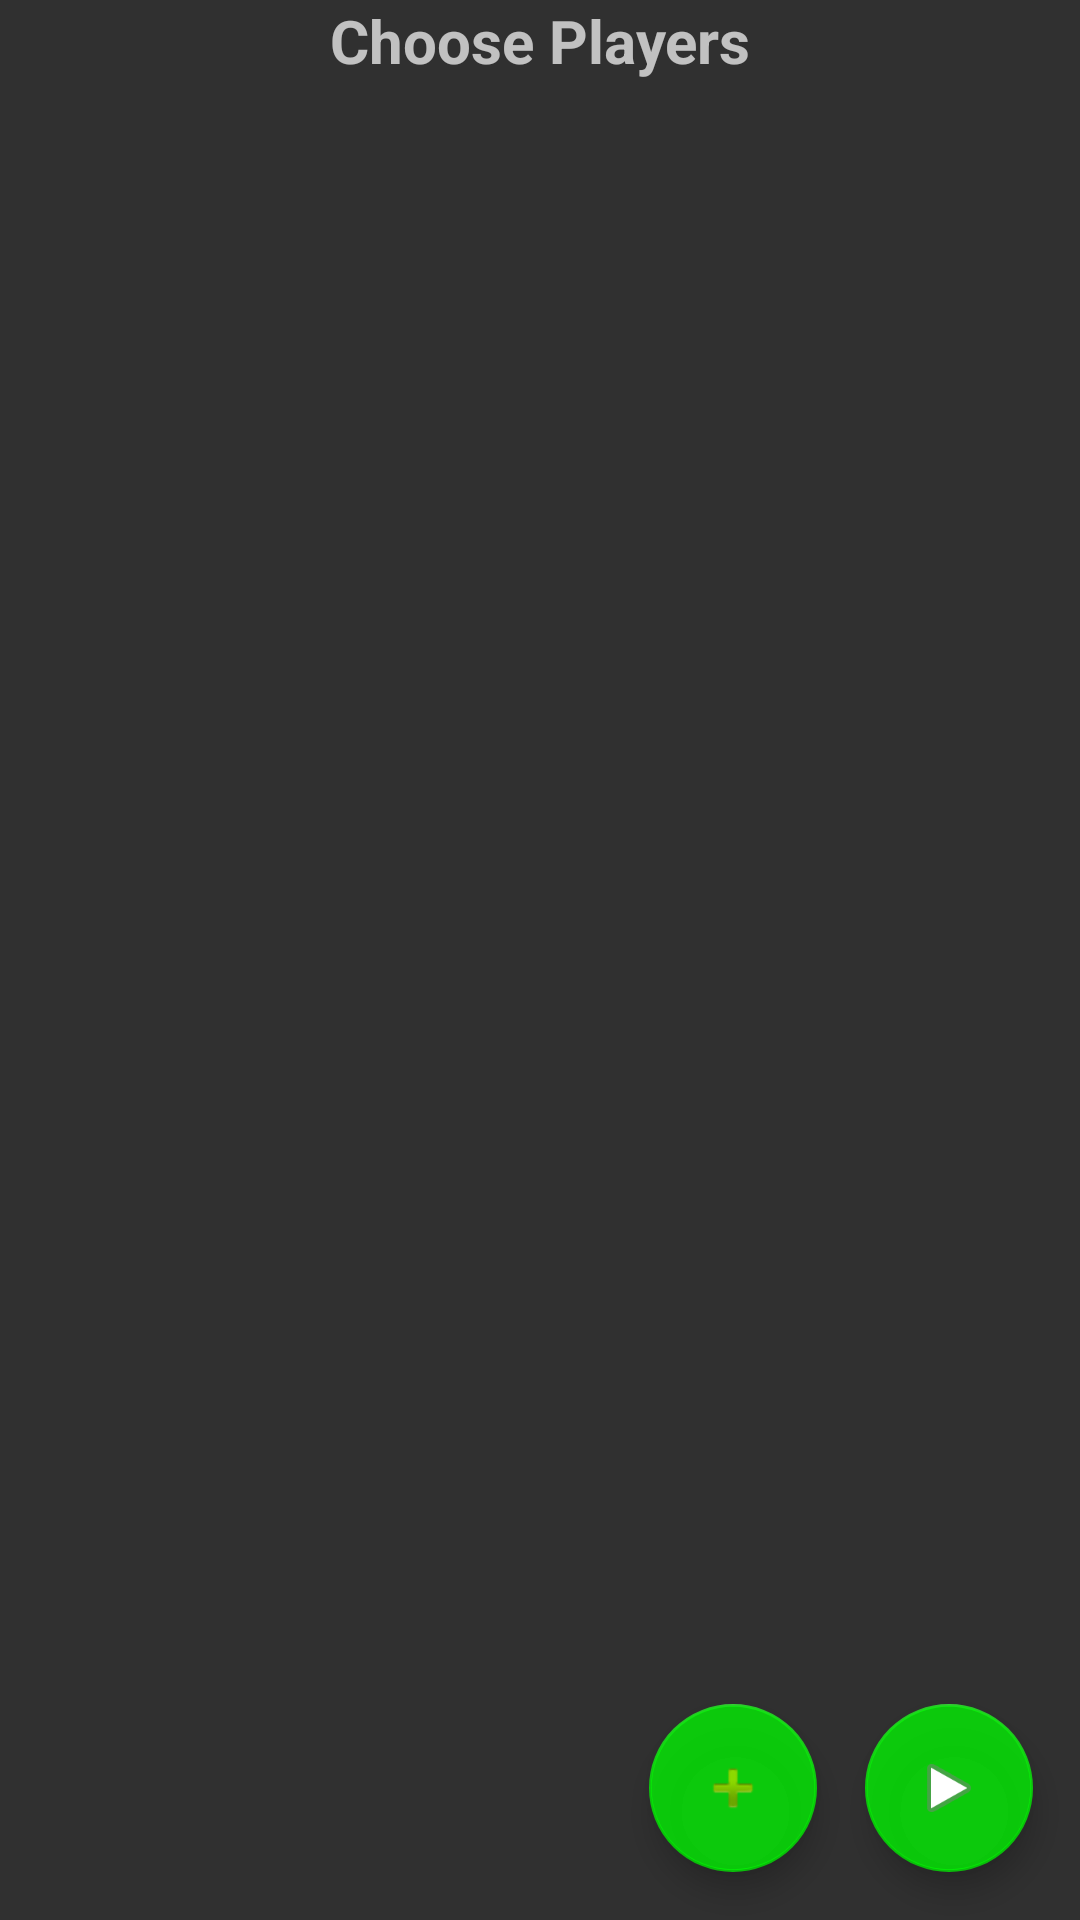

Icons on this 1080 x 1920 Android screen, each with its box as (x1=x1, y1=y1, x2=x2, y2=y2):
add: (x1=649, y1=1704, x2=817, y2=1872)
play: (x1=865, y1=1704, x2=1033, y2=1872)
